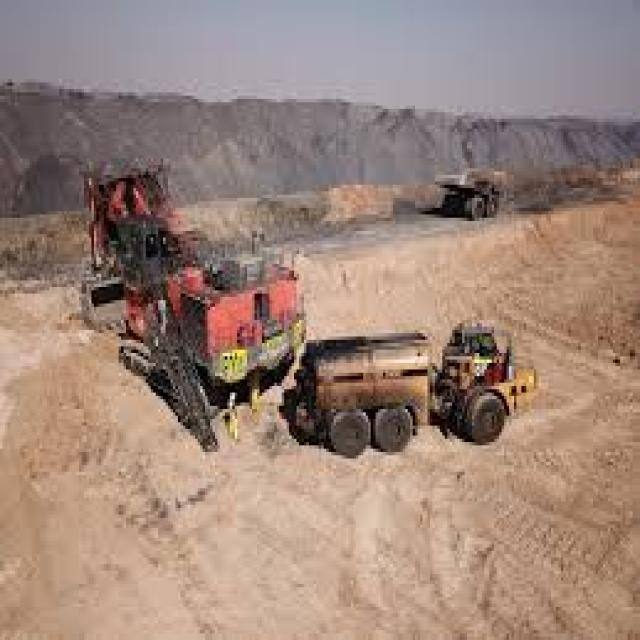dump_truck: (430, 152, 519, 231)
excavator: (42, 142, 309, 501)
